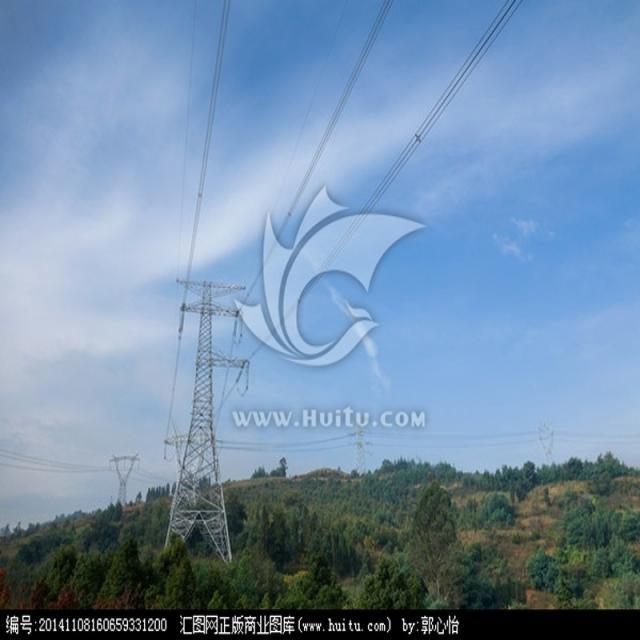non-critical vegetation: (162, 264, 260, 558)
